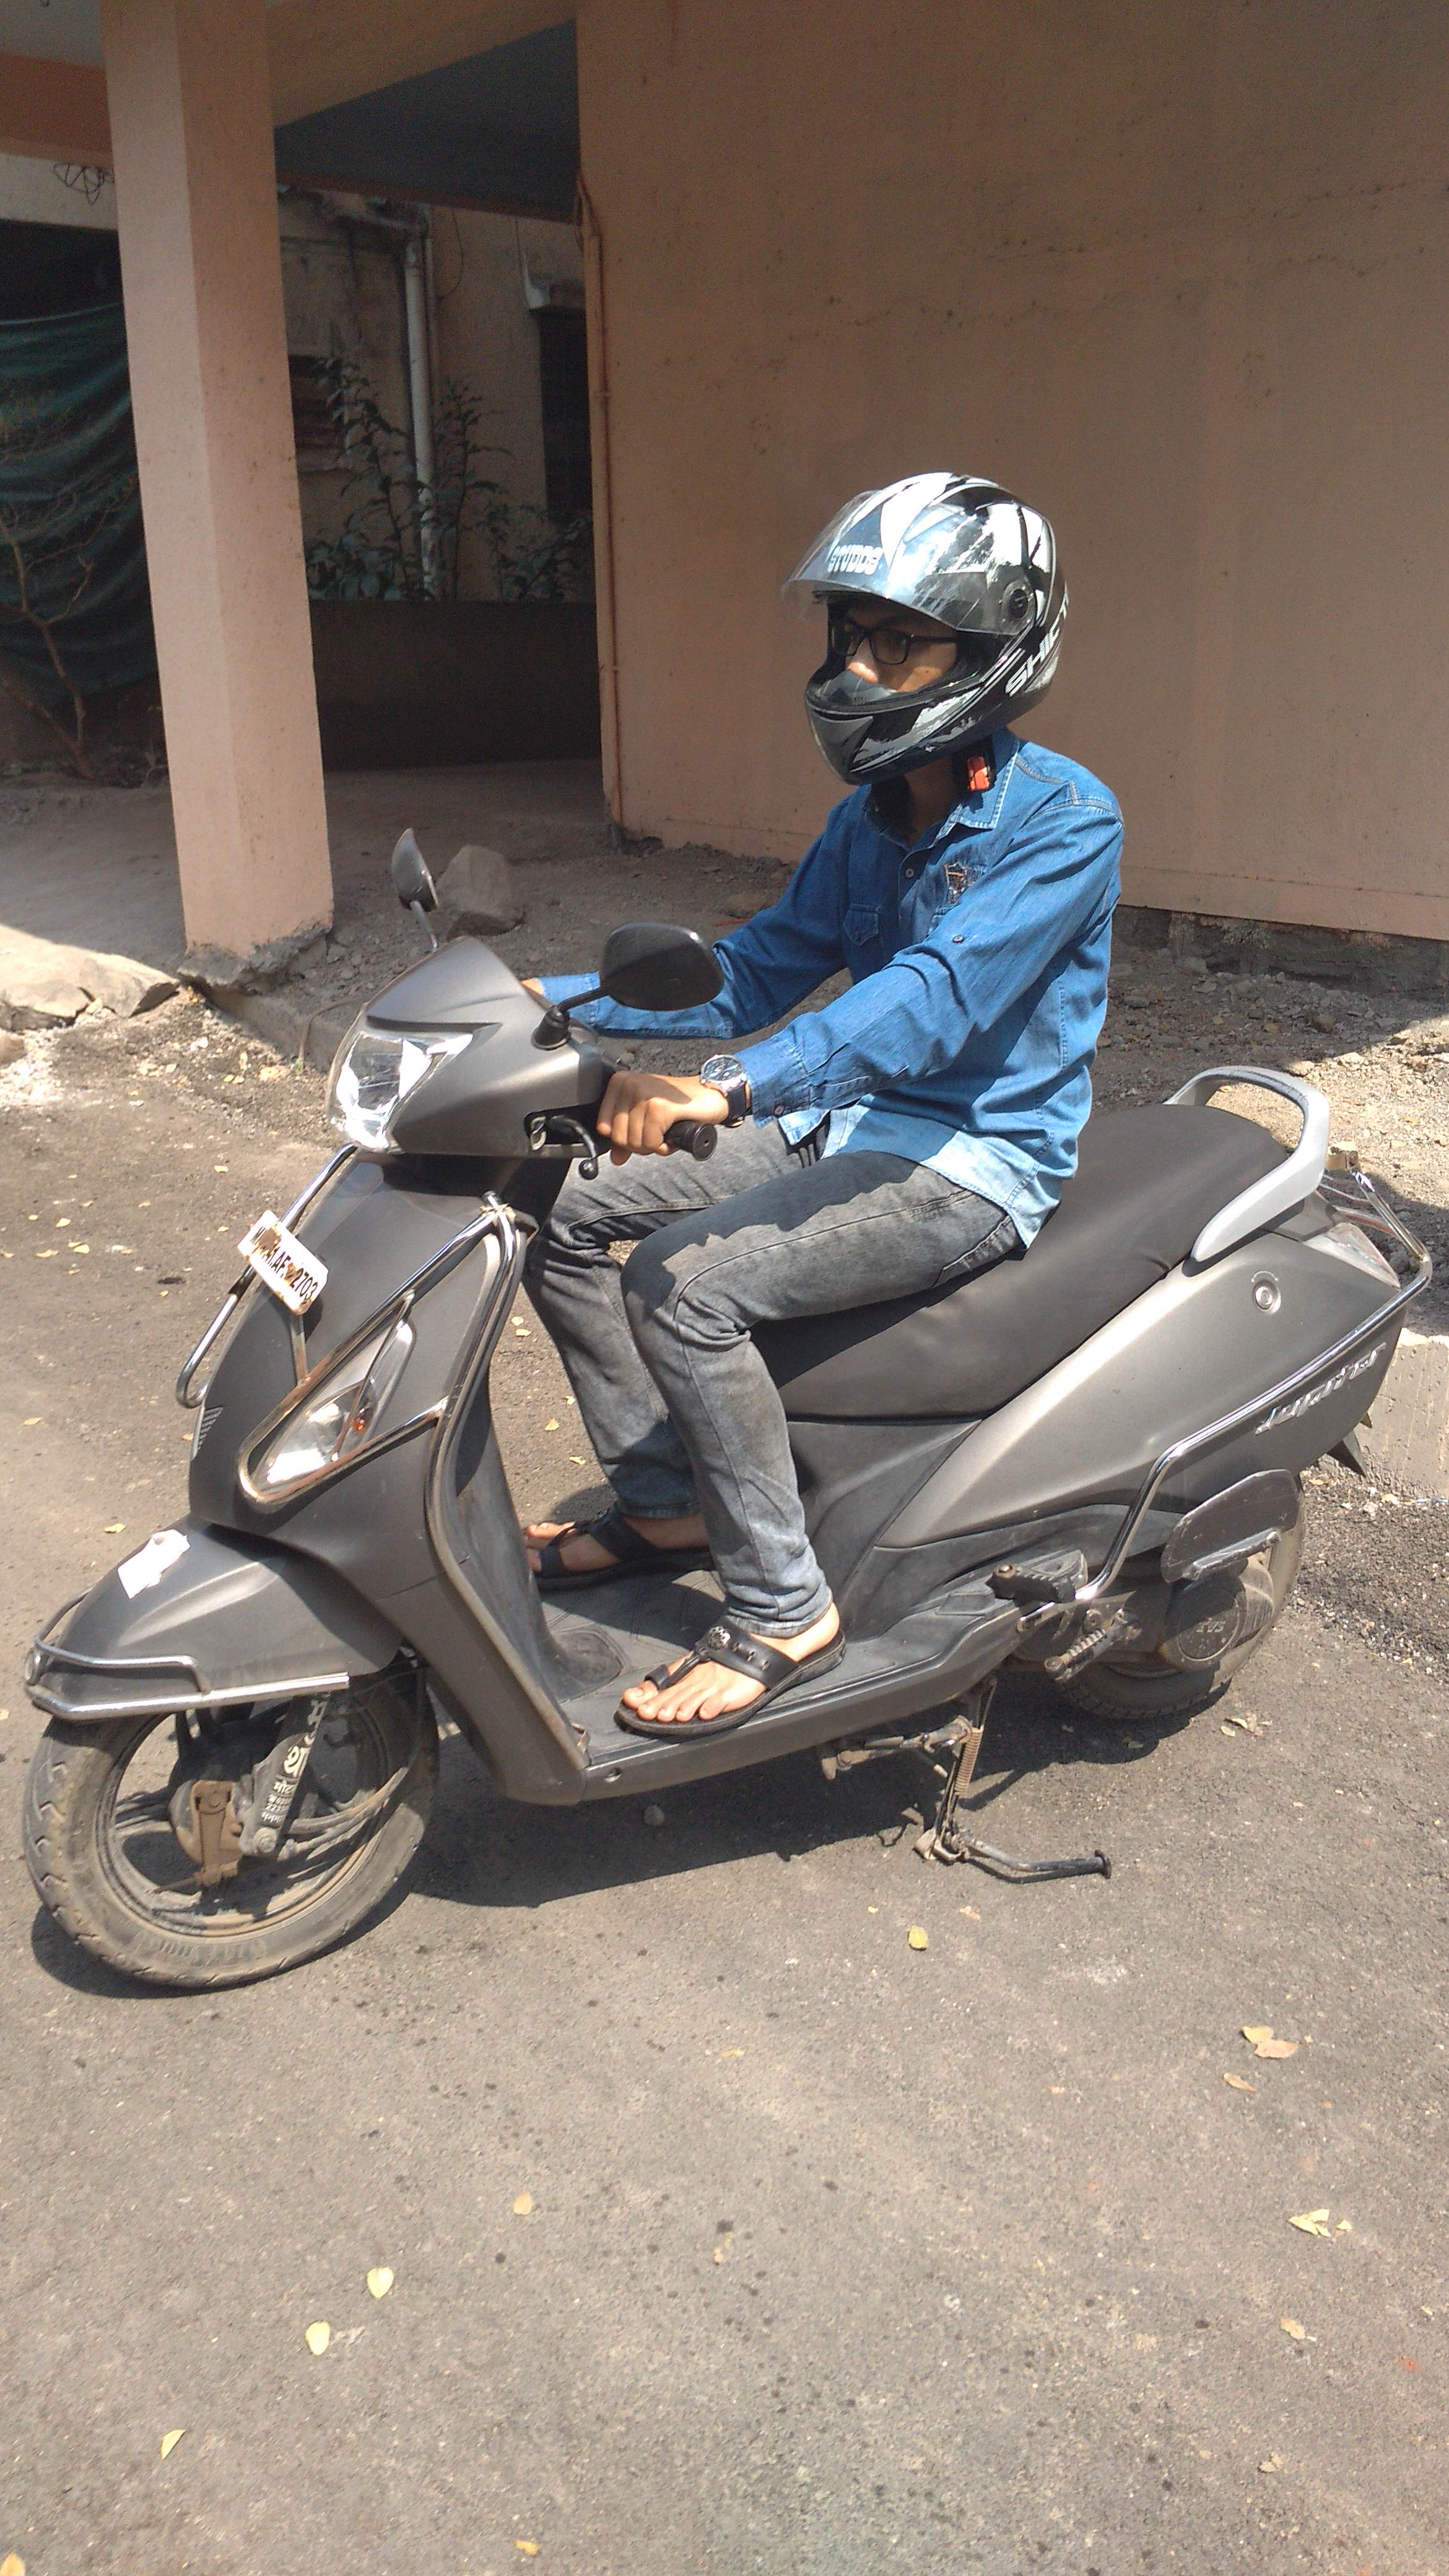helmet: (686, 449, 1141, 1177)
